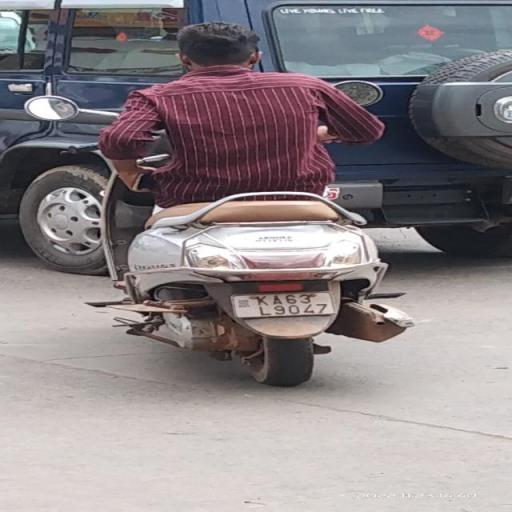bike: (23, 16, 425, 394)
numberplate: (232, 290, 339, 320)
withouthelmet: (180, 23, 258, 67)
